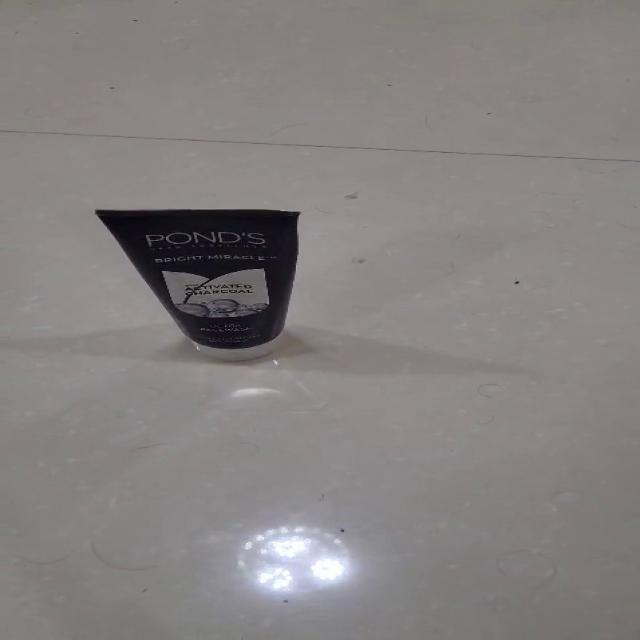plastic: (92, 207, 302, 361)
